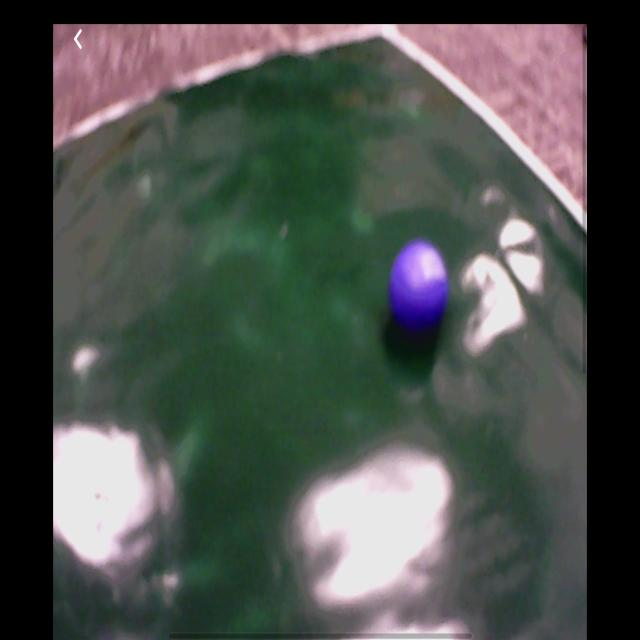ball: (389, 240, 448, 330)
